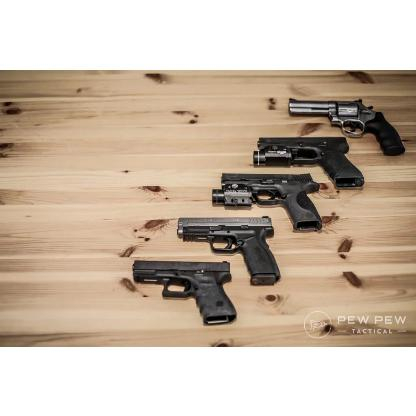gun: (128, 256, 236, 330), (282, 92, 405, 150), (173, 214, 280, 280), (250, 128, 370, 186), (213, 168, 323, 228)
